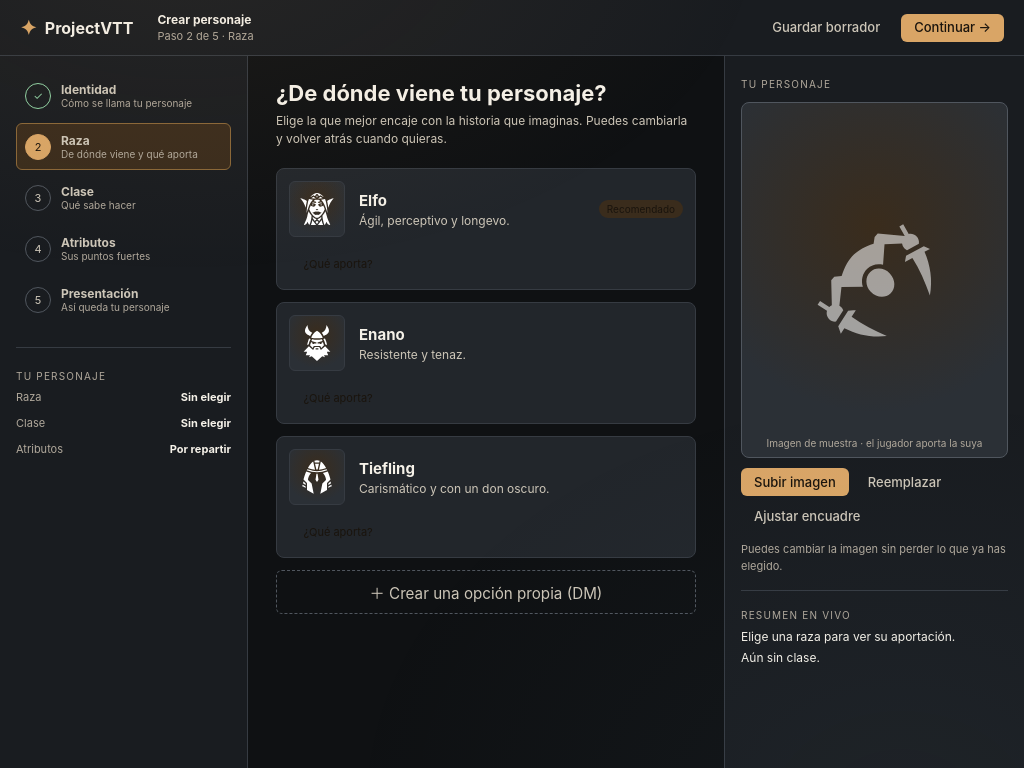
Scenario: Prototipo EXP-1 — creación visual › el encuadre de la imagen es reversible y avisa sin perder trabajo
Click the button "Ajustar encuadre".
click(807, 516)  # box [741,502,873,530]
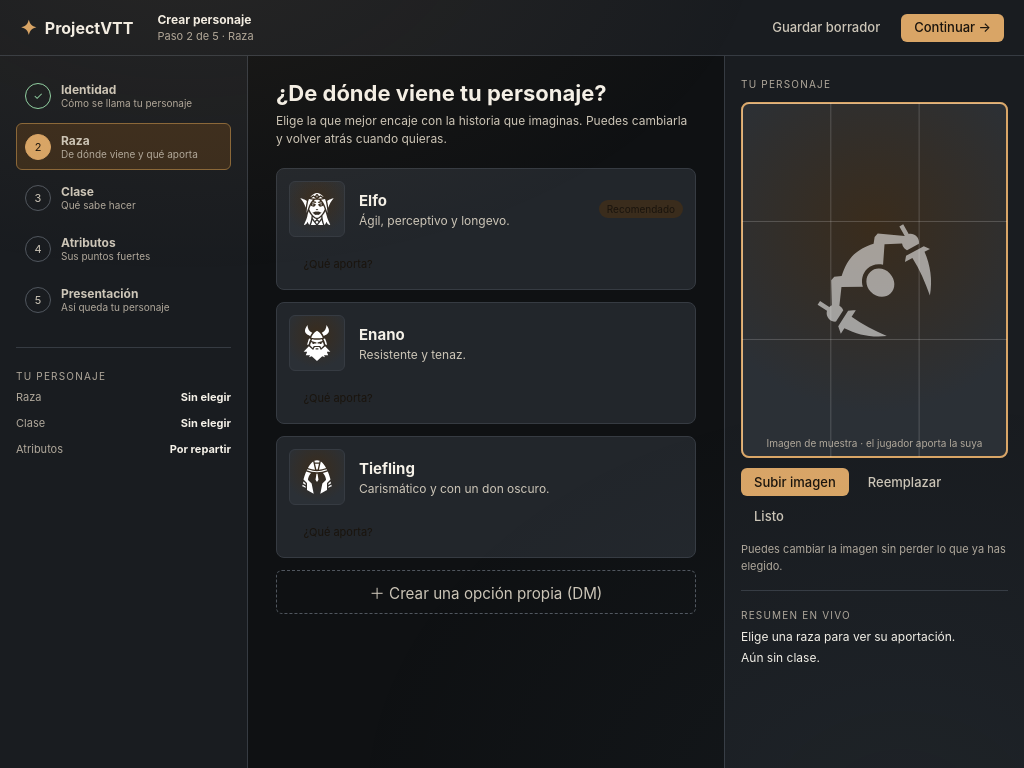
Expected: the element with class "exp__crop-grid" is shown, [742,103,1007,457]
Click the button "Listo".
click(769, 516)  # box [741,502,797,530]
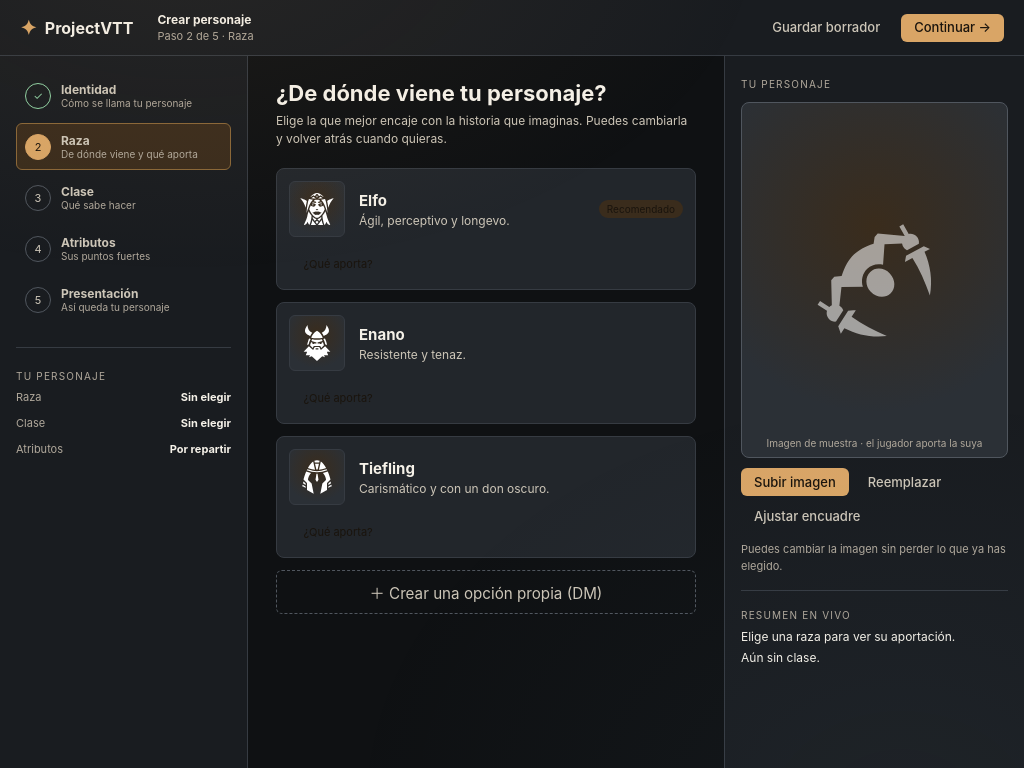
Expected: the element with class "exp__crop-grid" is gone
